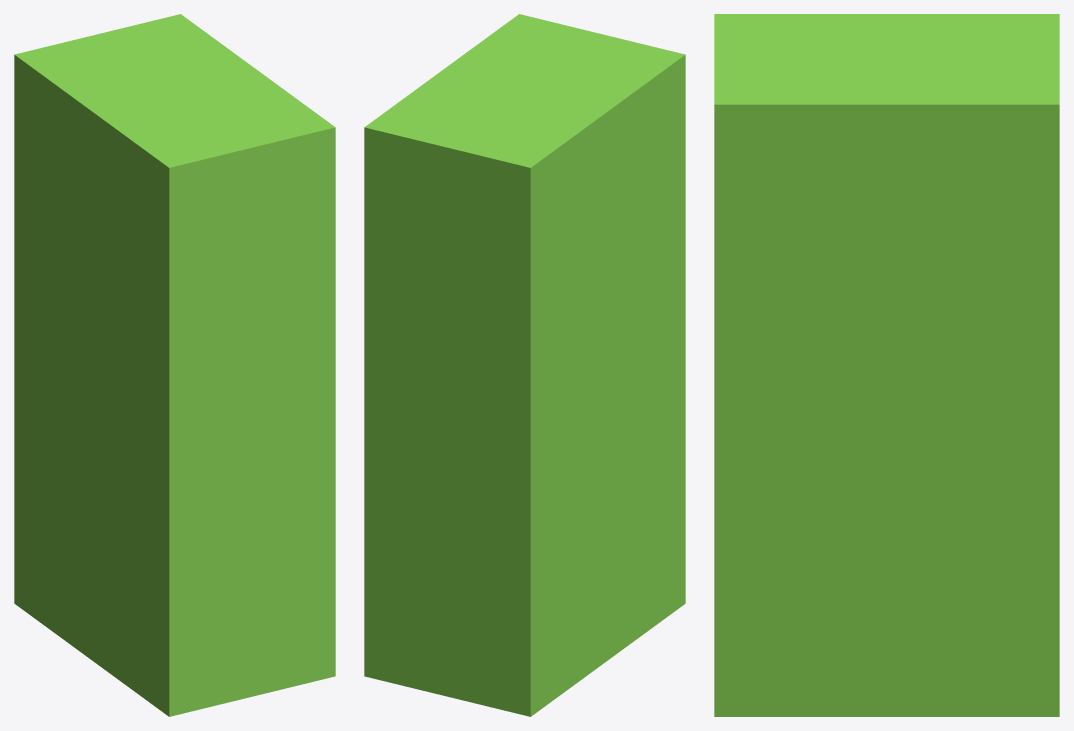
File: rock_tower_2.DAE
3 renders of one model, left to right at view 1: azimuth 30°, elevation 25°; view 2: azimuth 150°, elevation 25°; view 3: azimuth 270°, elevation 25°, orthographic. The views are drawn at different scales.
Parts seen in each view (by area): view 1: bounds; view 2: bounds; view 3: bounds.
Boxes of the visible parts, box(x1,y1,x2,y2) form: bounds: box(14, 14, 335, 716); bounds: box(364, 14, 685, 716); bounds: box(714, 14, 1059, 716).
Bounding box in the file's own units: 7.8 × 12.58 × 24.6.
